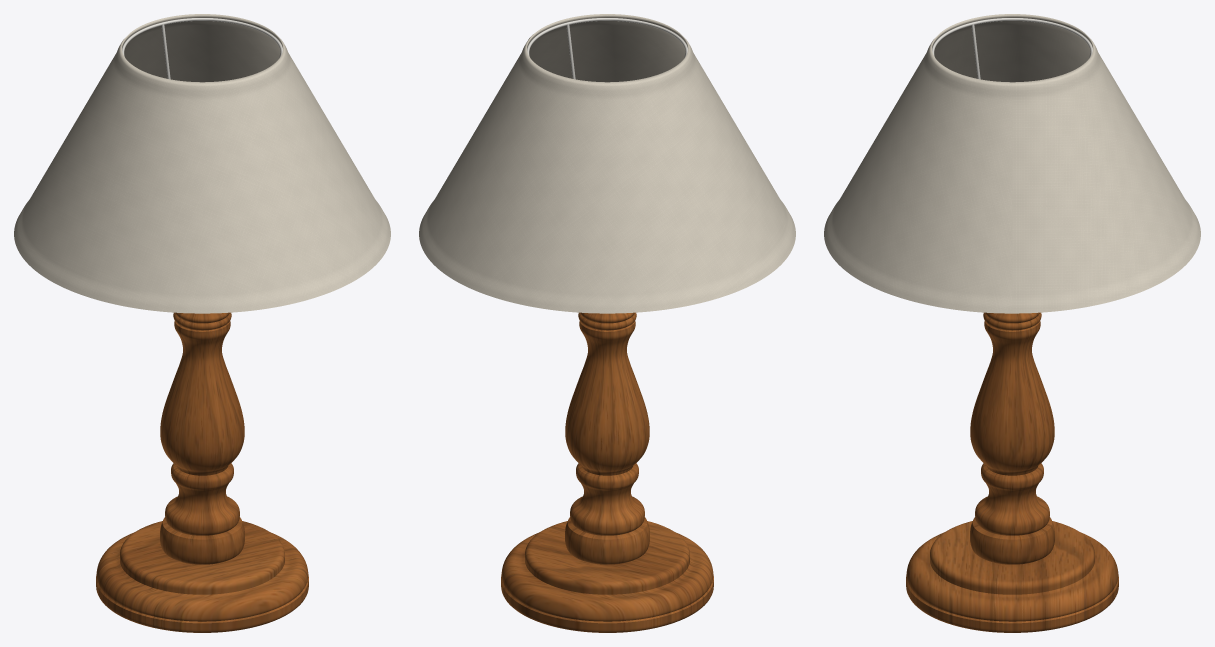
Rendered from abajur-madeira.glb.
3 renders of one model, left to right at view 1: azimuth 30°, elevation 25°; view 2: azimuth 150°, elevation 25°; view 3: azimuth 270°, elevation 25°, orthographic.
Parts seen in each view (by area): view 1: Cupula, Coluna, Base, Armacao; view 2: Cupula, Coluna, Base, Armacao; view 3: Cupula, Coluna, Base, Armacao.
Part boxes in pixels (bbox=[...]): Cupula: bbox=[14, 14, 390, 313]; Coluna: bbox=[160, 312, 244, 564]; Base: bbox=[96, 521, 308, 632]; Armacao: bbox=[122, 18, 282, 79]; Cupula: bbox=[419, 14, 795, 313]; Coluna: bbox=[565, 312, 649, 564]; Base: bbox=[501, 521, 713, 632]; Armacao: bbox=[527, 18, 687, 79]; Cupula: bbox=[824, 14, 1200, 313]; Coluna: bbox=[970, 312, 1054, 564]; Base: bbox=[906, 521, 1118, 632]; Armacao: bbox=[932, 18, 1092, 79].
Bounding box in the file's own units: 0.2216 × 0.3507 × 0.2213.
Materials: 7 (2 with a texture image).
